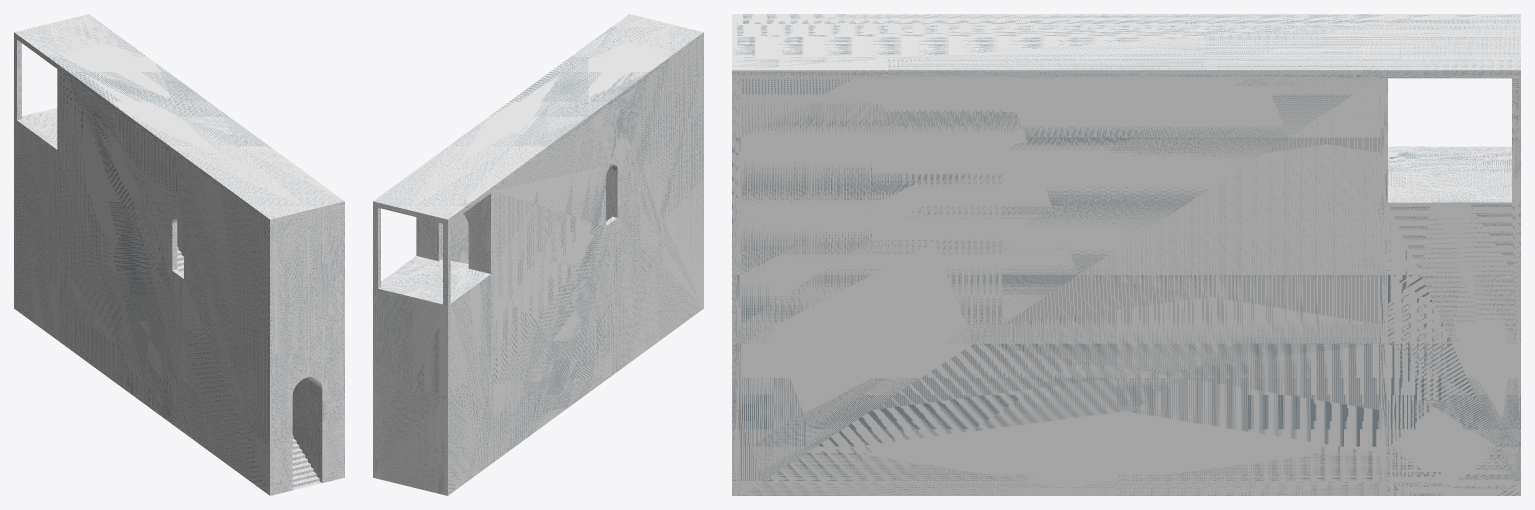
Rendered from CATHEDRAL v4.dae.
3 renders of one model, left to right at view 1: azimuth 30°, elevation 25°; view 2: azimuth 150°, elevation 25°; view 3: azimuth 270°, elevation 25°, orthographic. The views are drawn at different scales.
Visible parts, largest first — view 1: SketchUp, group_74; view 2: SketchUp, group_74; view 3: SketchUp, group_74.
Part boxes in pixels (x1,y1,x2,y2): SketchUp: [14, 37, 344, 495]; group_74: [14, 14, 344, 224]; SketchUp: [373, 37, 703, 495]; group_74: [373, 14, 703, 224]; SketchUp: [732, 78, 1520, 495]; group_74: [732, 14, 1520, 78].
Size of the model in its own units: 180 by 1068 by 636.
